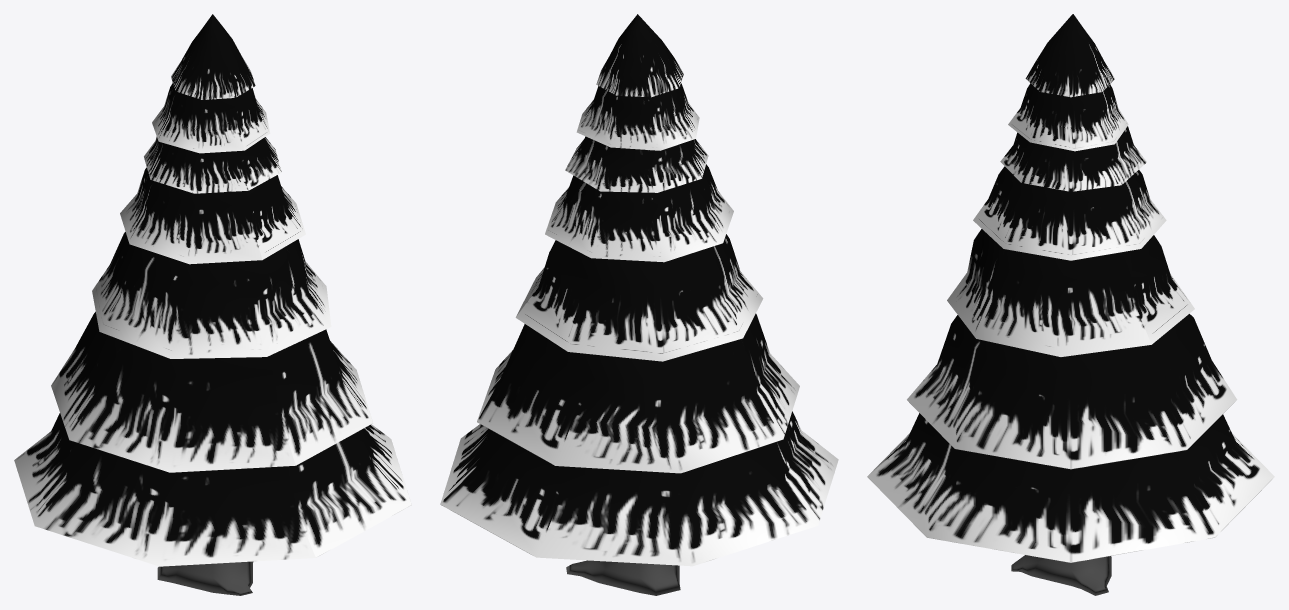
Rendered from M_Tree_2.fbx.
3 renders of one model, left to right at view 1: azimuth 30°, elevation 25°; view 2: azimuth 150°, elevation 25°; view 3: azimuth 270°, elevation 25°, orthographic.
Visible parts, largest first — view 1: pPlane1, pPlane2, pPlane3, pPlane4, pPlane7, pPlane5, pPlane6, Stamm; view 2: pPlane1, pPlane2, pPlane3, pPlane4, pPlane7, pPlane5, pPlane6, Stamm; view 3: pPlane1, pPlane2, pPlane3, pPlane4, pPlane5, pPlane7, pPlane6, Stamm.
Boxes of the visible parts, x1=… form: pPlane1: x1=14, y1=413, x2=411, y2=566; pPlane2: x1=51, y1=312, x2=372, y2=472; pPlane3: x1=92, y1=232, x2=331, y2=358; pPlane4: x1=120, y1=167, x2=305, y2=264; pPlane7: x1=152, y1=83, x2=270, y2=153; pPlane5: x1=144, y1=136, x2=281, y2=193; pPlane6: x1=171, y1=14, x2=255, y2=99; Stamm: x1=157, y1=561, x2=253, y2=595; pPlane1: x1=440, y1=411, x2=838, y2=566; pPlane2: x1=477, y1=313, x2=799, y2=473; pPlane3: x1=515, y1=234, x2=763, y2=361; pPlane4: x1=545, y1=164, x2=733, y2=262; pPlane7: x1=576, y1=83, x2=699, y2=150; pPlane5: x1=565, y1=136, x2=708, y2=192; pPlane6: x1=596, y1=14, x2=683, y2=97; Stamm: x1=566, y1=560, x2=680, y2=595; pPlane1: x1=867, y1=413, x2=1274, y2=562; pPlane2: x1=907, y1=314, x2=1237, y2=469; pPlane3: x1=947, y1=229, x2=1194, y2=356; pPlane4: x1=973, y1=166, x2=1166, y2=260; pPlane5: x1=1000, y1=126, x2=1146, y2=191; pPlane7: x1=1008, y1=83, x2=1128, y2=151; pPlane6: x1=1025, y1=14, x2=1114, y2=97; Stamm: x1=1011, y1=555, x2=1111, y2=595.
Size of the model in its own units: 16.08 by 16.08 by 24.06.
